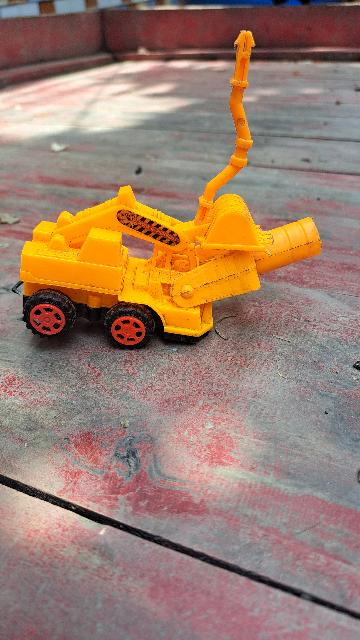hardplastic: (17, 187, 329, 360)
